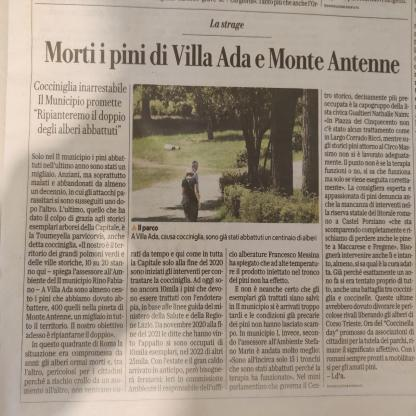immagine: (129, 81, 320, 225)
testo_col: (321, 86, 416, 379), (21, 148, 128, 402), (226, 246, 322, 397), (128, 247, 225, 396)
titolo: (38, 34, 403, 80)
